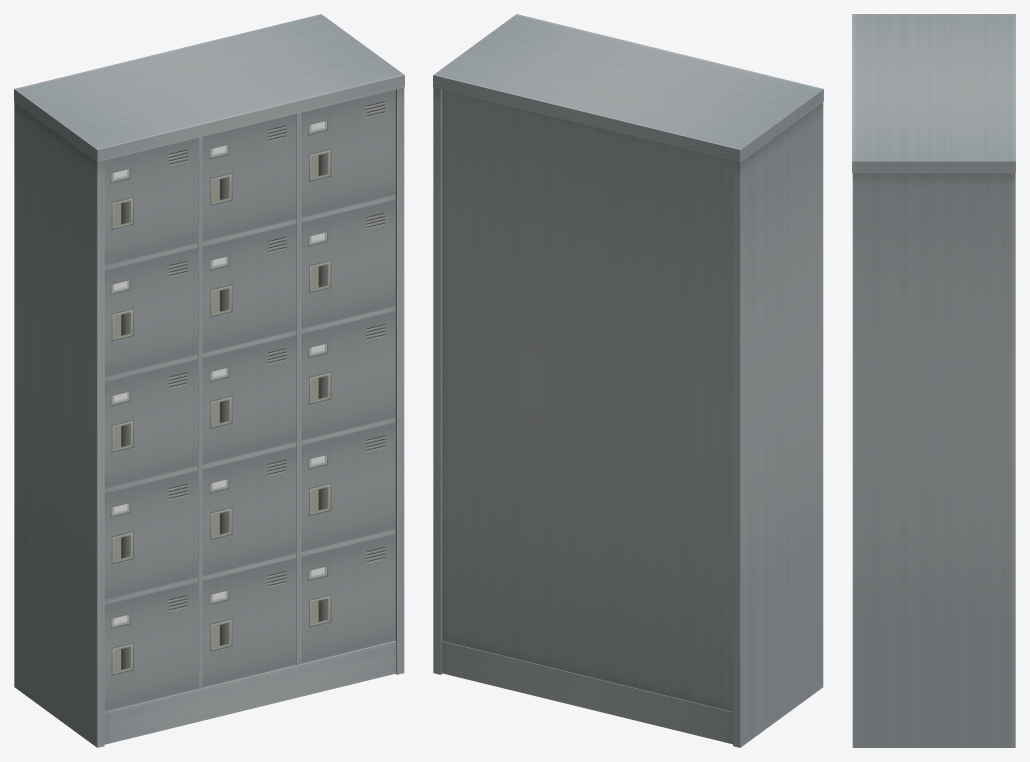
Rendered from set_shoecupboard_a_11.fbx.
The picture shows the model from 3 angles, left to right: view 1: azimuth 30°, elevation 25°; view 2: azimuth 150°, elevation 25°; view 3: azimuth 270°, elevation 25°; orthographic projection.
Visible parts, largest first — view 1: shoecupboard_a_11, door_a_11_07, door_a_11_13, door_a_11_10, door_a_11_12, door_a_11_14, door_a_11_09, door_a_11_15, door_a_11_08, door_a_11_04, door_a_11_05, door_a_11_02 (+4 smaller); view 2: shoecupboard_a_11; view 3: shoecupboard_a_11.
Boxes of the visible parts, x1,y1,x2,y2 form: shoecupboard_a_11: (14,14,404,747); door_a_11_07: (202,223,296,353); door_a_11_13: (301,310,395,440); door_a_11_10: (202,557,296,687); door_a_11_12: (301,199,395,329); door_a_11_14: (301,422,395,552); door_a_11_09: (202,446,296,576); door_a_11_15: (301,533,395,663); door_a_11_08: (202,335,296,464); door_a_11_04: (104,470,197,600); door_a_11_05: (104,581,197,711); door_a_11_02: (104,247,197,377); shoecupboard_a_11: (433,14,823,747); shoecupboard_a_11: (852,14,1015,747).
Size of the model in its own units: 79.39 by 148 by 37.38.
